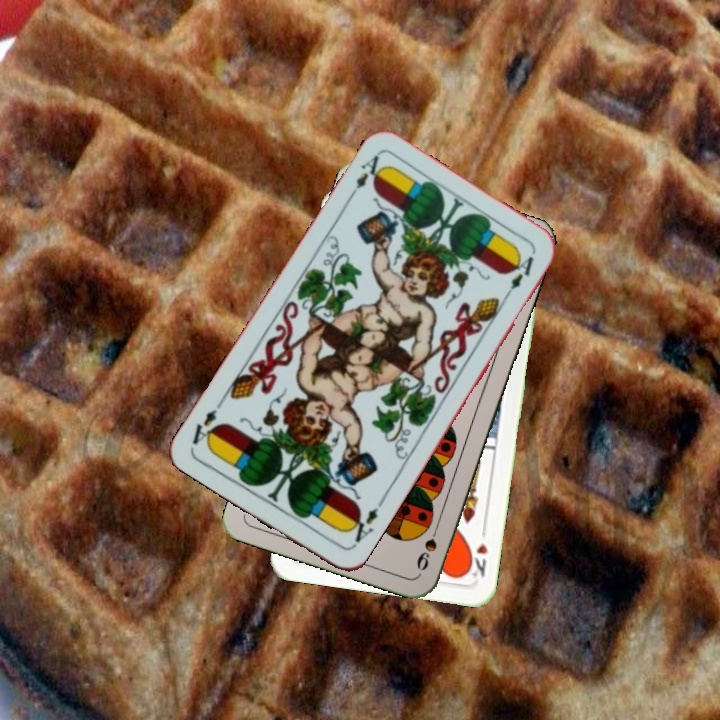EA: (343, 497, 386, 550), (344, 151, 387, 203)
HK: (463, 522, 491, 580)
S9: (412, 517, 443, 573)
